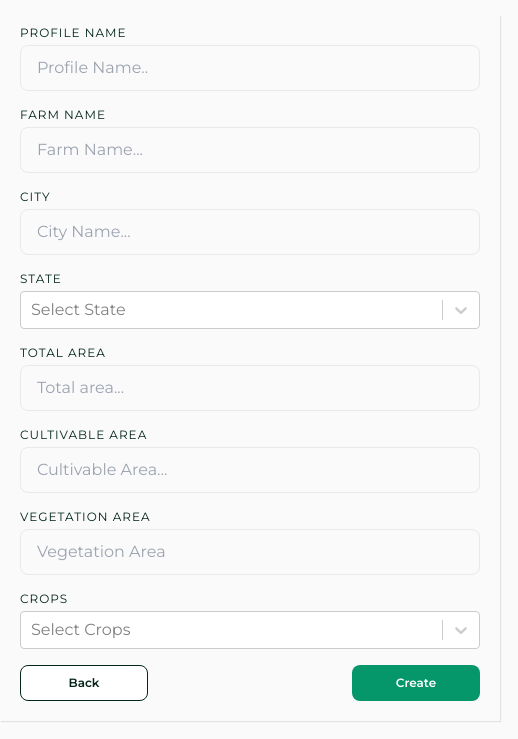
Scenario: #FarmForm Suite › should display validation errors when form is submitted with invalid data
(page scrolled)
Click the button "Create" at (416, 683), box left=352, top=665, right=480, bottom=701
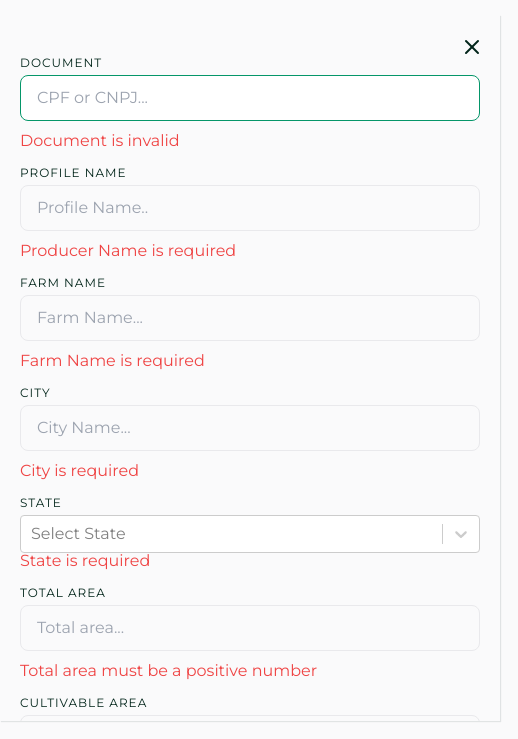
Now the text "Document is invalid" is shown, box left=20, top=131, right=180, bottom=150
Now the text "Producer Name is required" is shown, box left=20, top=241, right=236, bottom=260
Now the text "Farm Name is required" is shown, box left=20, top=351, right=205, bottom=370
